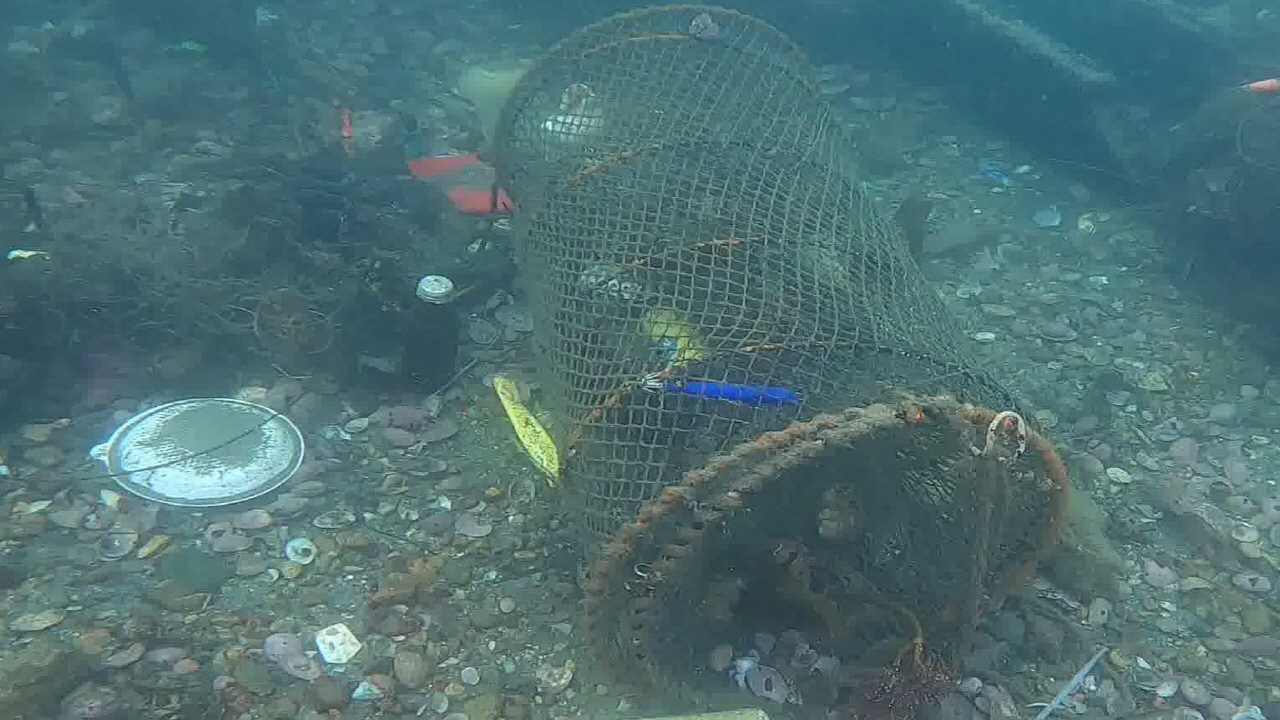spring fish trap: (492, 5, 1070, 717)
